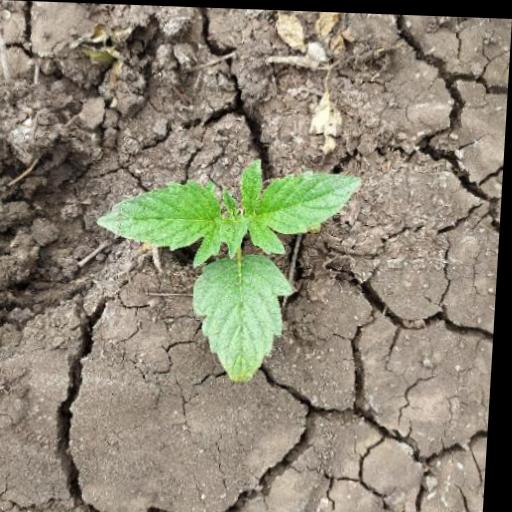crop: (96, 150, 382, 396)
